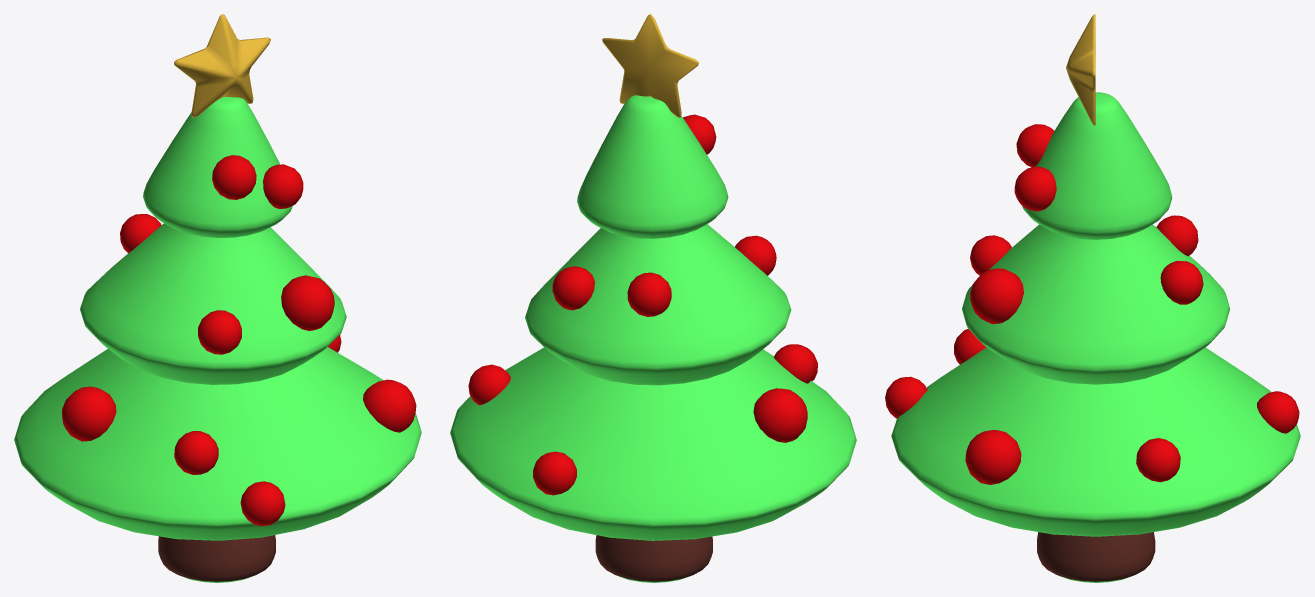
Rendered from X-mas tree.fbx.
3 renders of one model, left to right at view 1: azimuth 30°, elevation 25°; view 2: azimuth 150°, elevation 25°; view 3: azimuth 270°, elevation 25°, orthographic.
Parts seen in each view (by area): view 1: tree, Star, tree1, Roundcube.002, Roundcube.001, Roundcube, Roundcube.009, Roundcube.003, Roundcube.004, Roundcube.005, Roundcube.008, Roundcube.011; view 2: tree, Star, tree1, Roundcube.001, Roundcube.011, Roundcube.010, Roundcube.007, Roundcube.006, Roundcube.005, Roundcube.004, Roundcube.003; view 3: tree, tree1, Roundcube, Roundcube.002, Star, Roundcube.006, Roundcube.008, Roundcube.007, Roundcube.010, Roundcube.009, Roundcube.003, Roundcube.011 (+2 smaller).
Boxes of the visible parts, x1,y1,x2,y2 form: tree: [14, 97, 421, 540]; Star: [174, 14, 270, 117]; tree1: [158, 535, 275, 582]; Roundcube.002: [281, 275, 334, 330]; Roundcube.001: [62, 386, 116, 441]; Roundcube: [363, 379, 416, 432]; Roundcube.009: [240, 481, 285, 526]; Roundcube.003: [212, 155, 256, 199]; Roundcube.004: [198, 310, 241, 354]; Roundcube.005: [174, 431, 218, 474]; Roundcube.008: [263, 164, 303, 208]; Roundcube.011: [120, 214, 161, 253]; tree: [450, 95, 856, 540]; Star: [602, 14, 698, 117]; tree1: [595, 535, 712, 582]; Roundcube.001: [753, 388, 807, 442]; Roundcube.011: [627, 272, 671, 316]; Roundcube.010: [533, 451, 576, 495]; Roundcube.007: [552, 266, 594, 310]; Roundcube.006: [468, 364, 510, 405]; Roundcube.005: [774, 344, 816, 383]; Roundcube.004: [735, 235, 776, 275]; Roundcube.003: [683, 114, 716, 154]; tree: [891, 92, 1300, 536]; tree1: [1037, 532, 1155, 582]; Roundcube: [965, 430, 1021, 484]; Roundcube.002: [970, 268, 1023, 324]; Star: [1066, 14, 1095, 125]; Roundcube.006: [1136, 438, 1180, 482]; Roundcube.008: [1014, 166, 1056, 211]; Roundcube.007: [1160, 261, 1203, 304]; Roundcube.010: [1257, 391, 1299, 433]; Roundcube.009: [885, 376, 927, 418]; Roundcube.003: [1016, 124, 1053, 167]; Roundcube.011: [1156, 215, 1198, 256].
Size of the model in its own units: 187 by 279 by 190.
